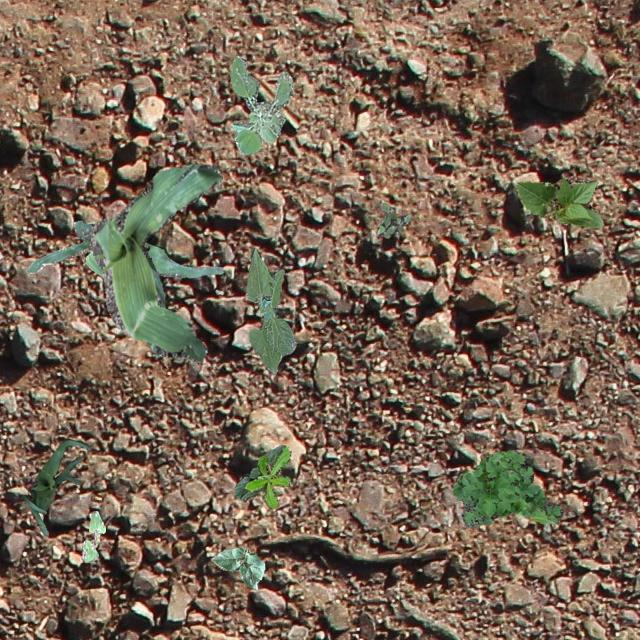crop: (90, 164, 222, 362), (26, 220, 222, 276), (22, 438, 90, 534), (246, 248, 296, 374), (514, 175, 602, 228), (232, 444, 284, 500), (210, 546, 264, 588), (80, 509, 104, 562)
weed: (452, 448, 562, 526), (228, 54, 292, 154), (243, 446, 290, 508), (376, 202, 410, 236)
